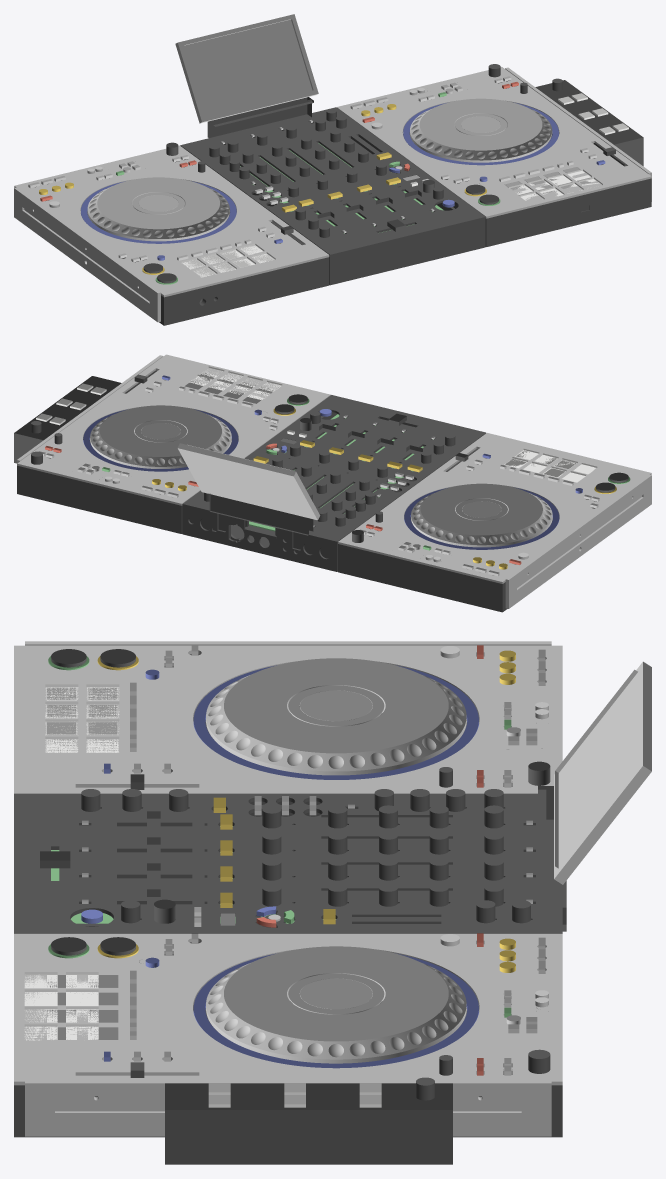
Rendered from dj-enclosure.glb.
3 renders of one model, top to bottom at view 1: azimuth 30°, elevation 25°; view 2: azimuth 150°, elevation 25°; view 3: azimuth 270°, elevation 25°, orthographic. The views are drawn at different scales.
Visible parts, largest first — view 1: Center Top Plate, Right Top Plate, Left Top Plate, Screen Bezel Housing v2, Left JogPlatter, Right JogPlatter, Left Frame F, Right Frame F, Left Side Cheek, Center Mixer Frame F, Lighting Housing, Screen Display Glass v2 (+9 smaller); view 2: Center Top Plate, Left Top Plate, Right Top Plate, Left JogPlatter, Right JogPlatter, Screen Bezel Housing v2, Left Frame R, Right Frame R, Left Side Cheek, Center Mixer Frame R, Lighting Housing, Screen Stand Spine (+8 smaller); view 3: Center Top Plate, Left Top Plate, Right Top Plate, Lighting Housing, Left JogPlatter, Right JogPlatter, Right Side Cheek, Screen Bezel Housing v2, Screen Display Glass v2, Right Jog Light Ring, Left Jog Light Ring, Left Side Cheek (+7 smaller).
Boxes of the visible parts, x1,y1,x2,y2 form: Center Top Plate: [180, 107, 485, 256]; Right Top Plate: [336, 67, 651, 218]; Left Top Plate: [14, 145, 329, 297]; Screen Bezel Housing v2: [175, 14, 318, 123]; Left JogPlatter: [87, 177, 229, 241]; Right JogPlatter: [410, 98, 552, 162]; Left Frame F: [121, 221, 329, 325]; Right Frame F: [444, 143, 651, 246]; Left Side Cheek: [14, 187, 160, 322]; Center Mixer Frame F: [252, 159, 485, 285]; Lighting Housing: [535, 80, 643, 166]; Screen Display Glass v2: [184, 19, 313, 90]; Center Top Plate: [182, 395, 485, 543]; Left Top Plate: [338, 433, 651, 583]; Right Top Plate: [17, 354, 330, 505]; Left JogPlatter: [411, 483, 552, 547]; Right JogPlatter: [90, 405, 231, 468]; Screen Bezel Housing v2: [177, 443, 320, 520]; Left Frame R: [338, 517, 515, 612]; Right Frame R: [17, 435, 182, 533]; Left Side Cheek: [505, 474, 651, 608]; Center Mixer Frame R: [182, 506, 337, 571]; Lighting Housing: [14, 376, 121, 463]; Screen Stand Spine: [209, 493, 308, 535]; Center Top Plate: [14, 794, 562, 933]; Left Top Plate: [14, 645, 562, 793]; Right Top Plate: [14, 933, 562, 1085]; Lighting Housing: [165, 1083, 452, 1164]; Left JogPlatter: [206, 658, 466, 775]; Right JogPlatter: [206, 946, 466, 1063]; Right Side Cheek: [25, 1080, 551, 1136]; Screen Bezel Housing v2: [554, 661, 651, 884]; Screen Display Glass v2: [555, 669, 638, 868]; Right Jog Light Ring: [193, 953, 478, 1068]; Left Jog Light Ring: [193, 665, 478, 779]; Left Side Cheek: [25, 641, 551, 645].
Bounding box in the file's own units: 0.808 × 0.1686 × 0.4651.
